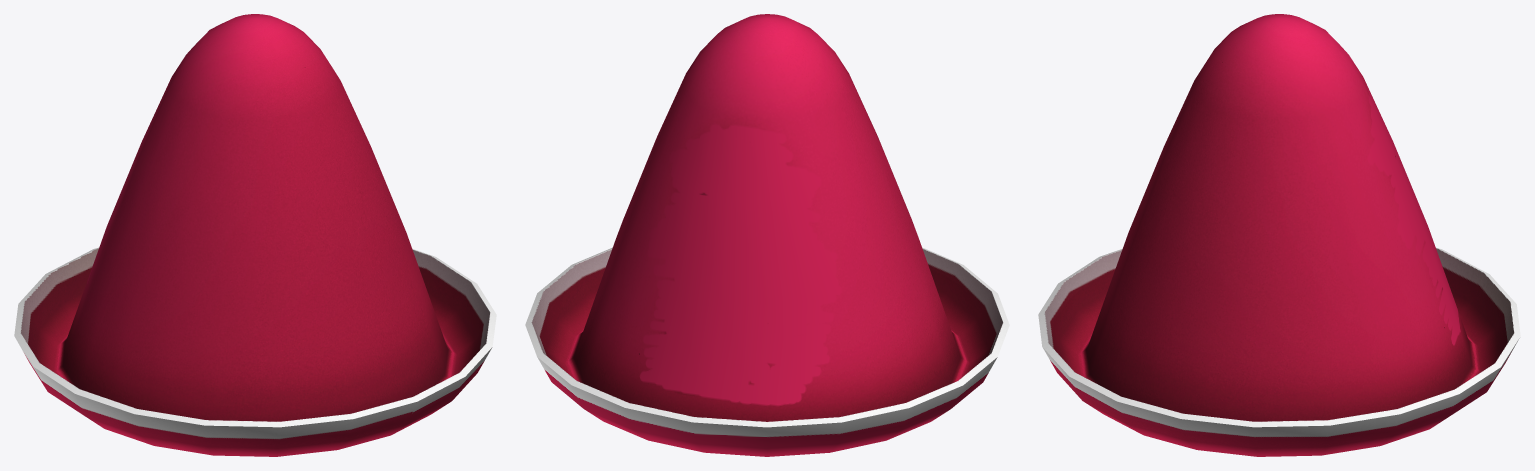
The model's file is clownHat.fbx.
The picture shows the model from 3 angles, left to right: view 1: azimuth 30°, elevation 25°; view 2: azimuth 150°, elevation 25°; view 3: azimuth 270°, elevation 25°; orthographic projection.
Visible parts, largest first — view 1: clownHat; view 2: clownHat; view 3: clownHat.
Boxes of the visible parts, <box> form: clownHat: <box>14,14,496,456</box>; clownHat: <box>525,14,1009,456</box>; clownHat: <box>1038,14,1520,456</box>.
Size of the model in its own units: 13.91 by 11.21 by 13.91.
